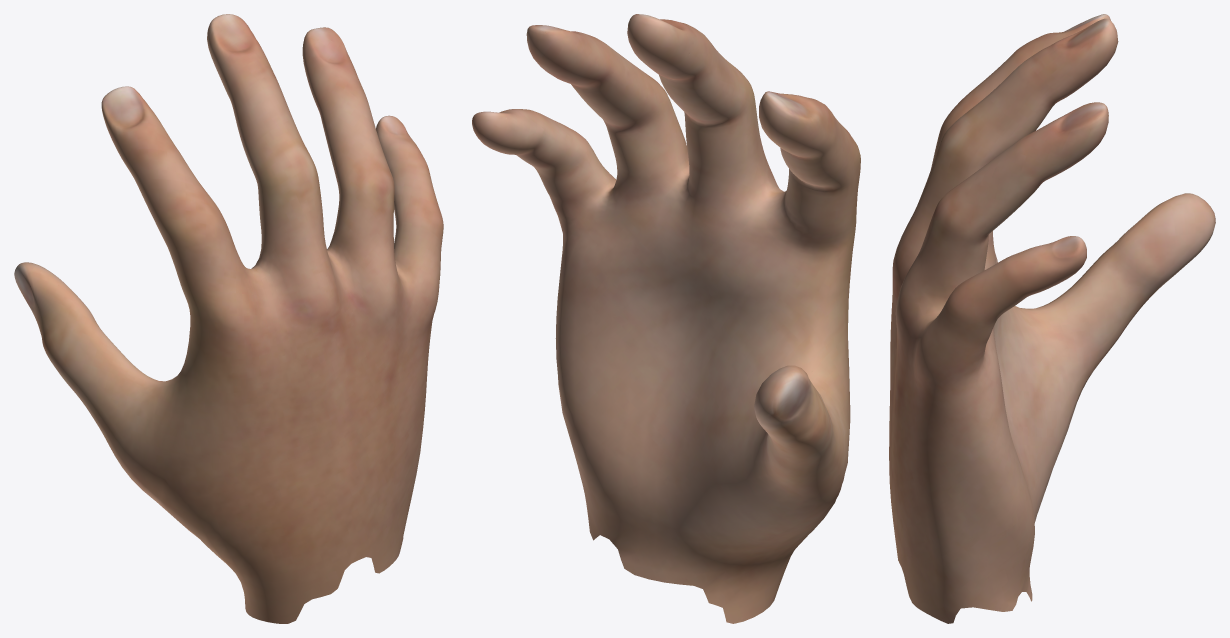
Rendered from player-hand-open.glb.
The picture shows the model from 3 angles, left to right: view 1: azimuth 30°, elevation 25°; view 2: azimuth 150°, elevation 25°; view 3: azimuth 270°, elevation 25°; orthographic projection. The views are drawn at different scales.
Parts seen in each view (by area): view 1: player-hand-open.001; view 2: player-hand-open.001; view 3: player-hand-open.001.
Part boxes in pixels (<box>): player-hand-open.001: <box>14,14,443,623</box>; player-hand-open.001: <box>472,14,860,623</box>; player-hand-open.001: <box>889,14,1215,623</box>.
Bounding box in the file's own units: 0.1082 × 0.171 × 0.0857.
Materials: 1 (1 with a texture image).
